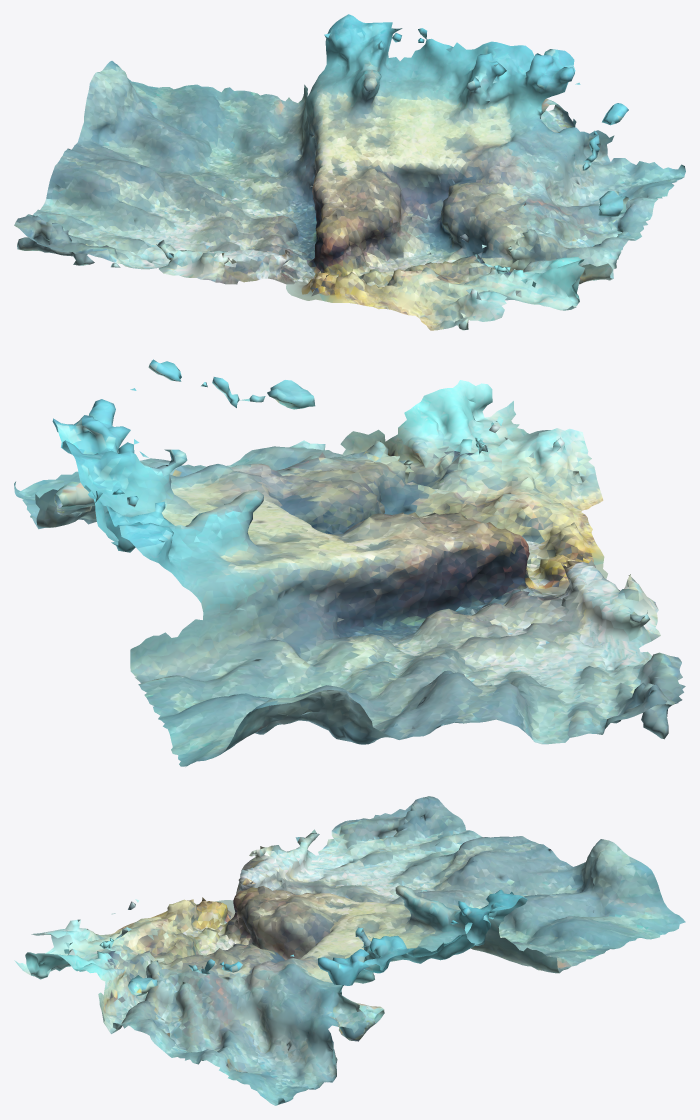
File: bulkward.obj
3 renders of one model, top to bottom at view 1: azimuth 30°, elevation 25°; view 2: azimuth 150°, elevation 25°; view 3: azimuth 270°, elevation 25°, orthographic. The views are drawn at different scales.
Visible parts, largest first — view 1: bulkward1; view 2: bulkward1; view 3: bulkward1.
Boxes of the visible parts, <box> form: bulkward1: <box>14,14,685,330</box>; bulkward1: <box>14,359,685,766</box>; bulkward1: <box>14,796,685,1105</box>.
Bounding box in the file's own units: 13.3 × 2.6 × 13.64.
